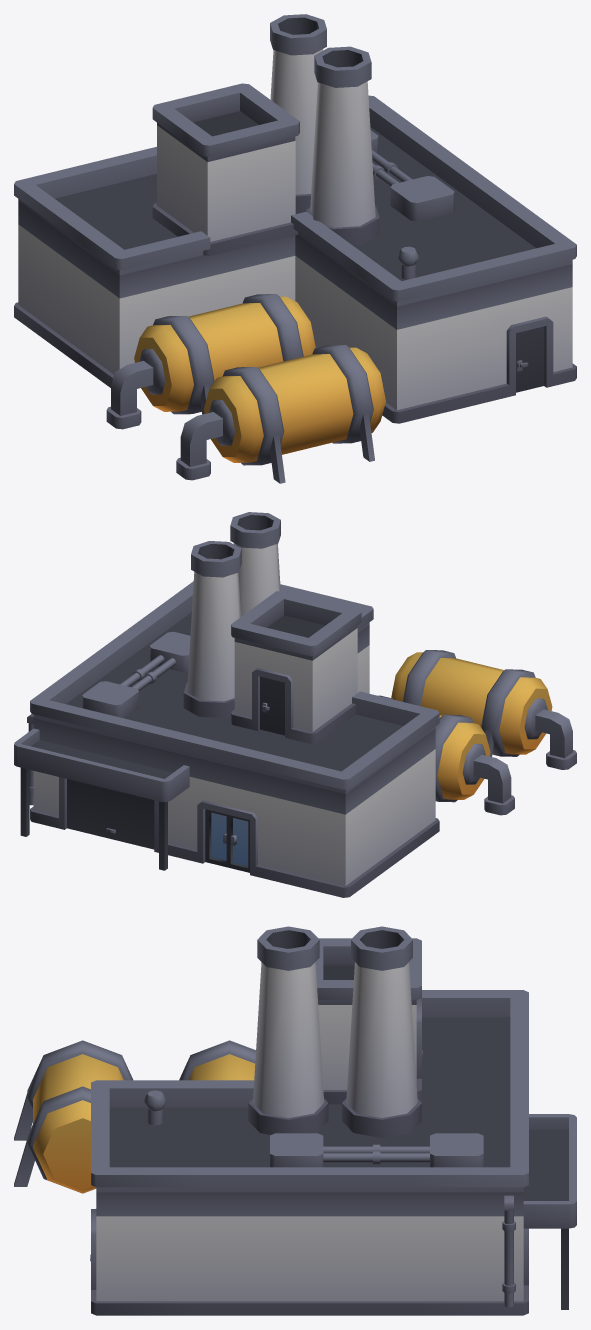
Rendered from industrial-building-c.glb.
The picture shows the model from 3 angles, top to bottom: view 1: azimuth 30°, elevation 25°; view 2: azimuth 150°, elevation 25°; view 3: azimuth 270°, elevation 25°; orthographic projection. The views are drawn at different scales.
Visible parts, largest first — view 1: building-c; view 2: building-c; view 3: building-c.
Boxes of the visible parts, x1=… form: building-c: x1=14, y1=14, x2=576, y2=483; building-c: x1=14, y1=512, x2=576, y2=897; building-c: x1=14, y1=926, x2=576, y2=1315.
Size of the model in its own units: 1.88 by 1.25 by 2.11.
